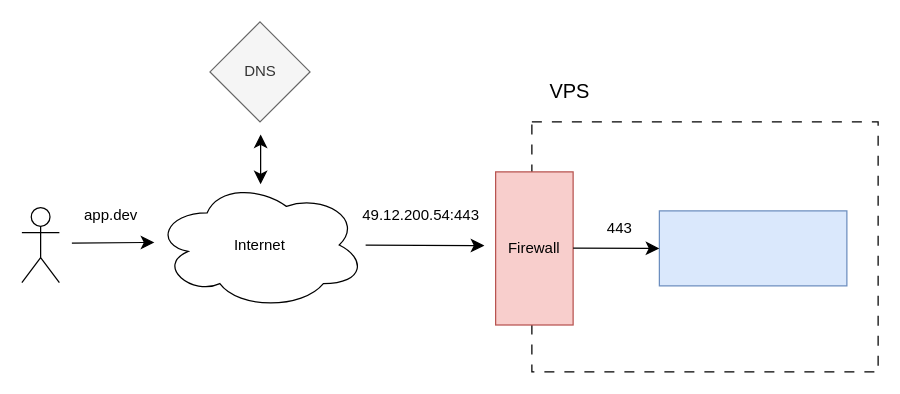
This 900x394 diagram has some shape labels left out. The shapes that lost their labels are listed below. From the top down, each one's box as (x1, y1, x2, y2) in pixels, then its label:
(21, 206, 59, 282): Client
(658, 210, 847, 286): app.dev API
